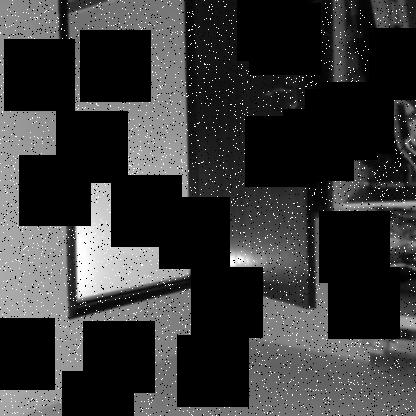Porte: (56, 0, 322, 322)
